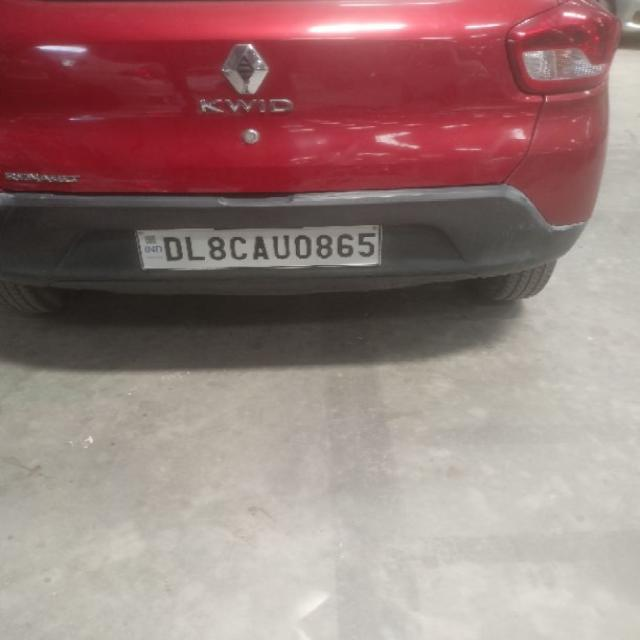license_plate: (133, 222, 383, 270)
